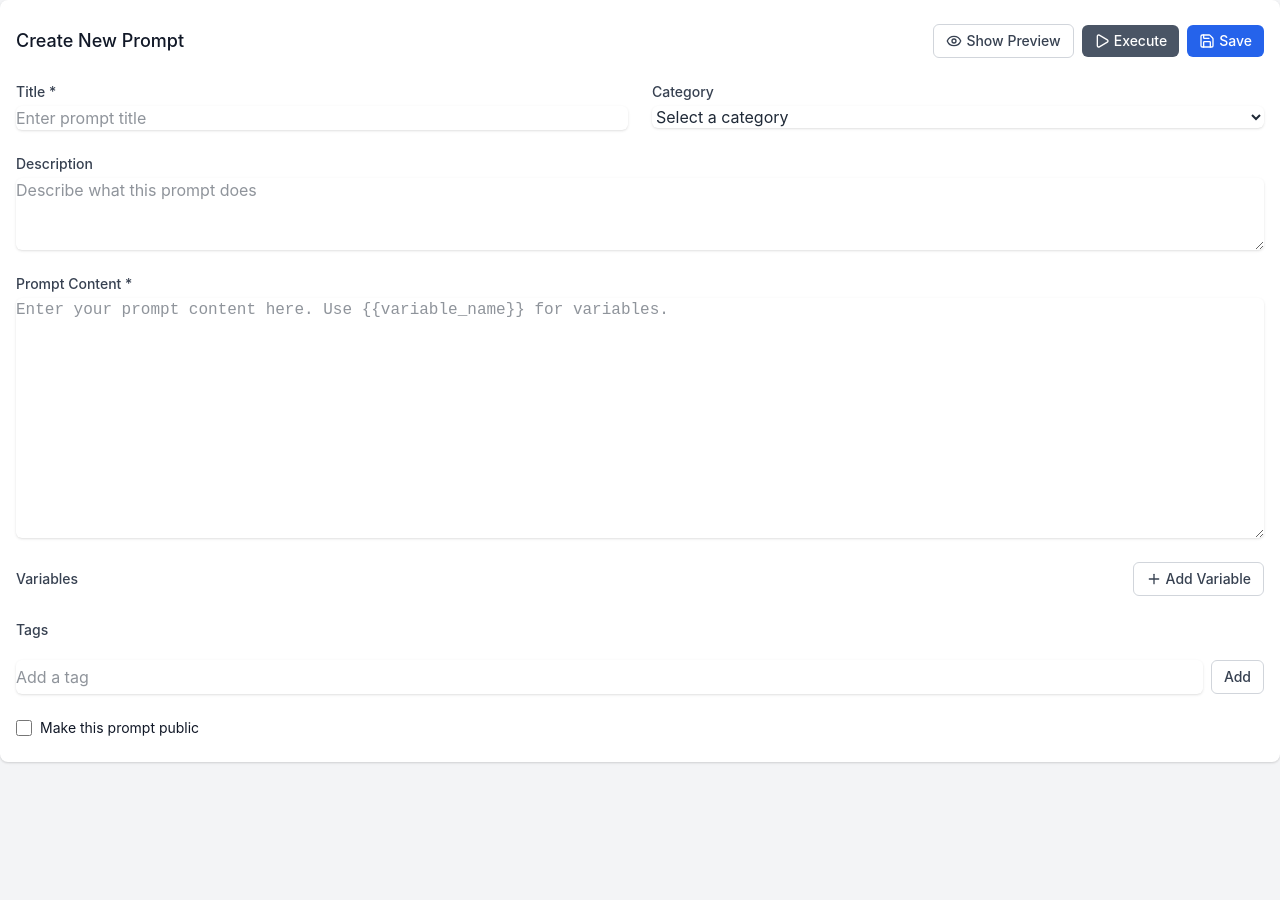
PromptEditor › allows adding and removing tags
The image size is (1280, 900).
Type "new-tag" into the field with placeholder "Add a tag" at [609, 677], box [16, 660, 1203, 694]
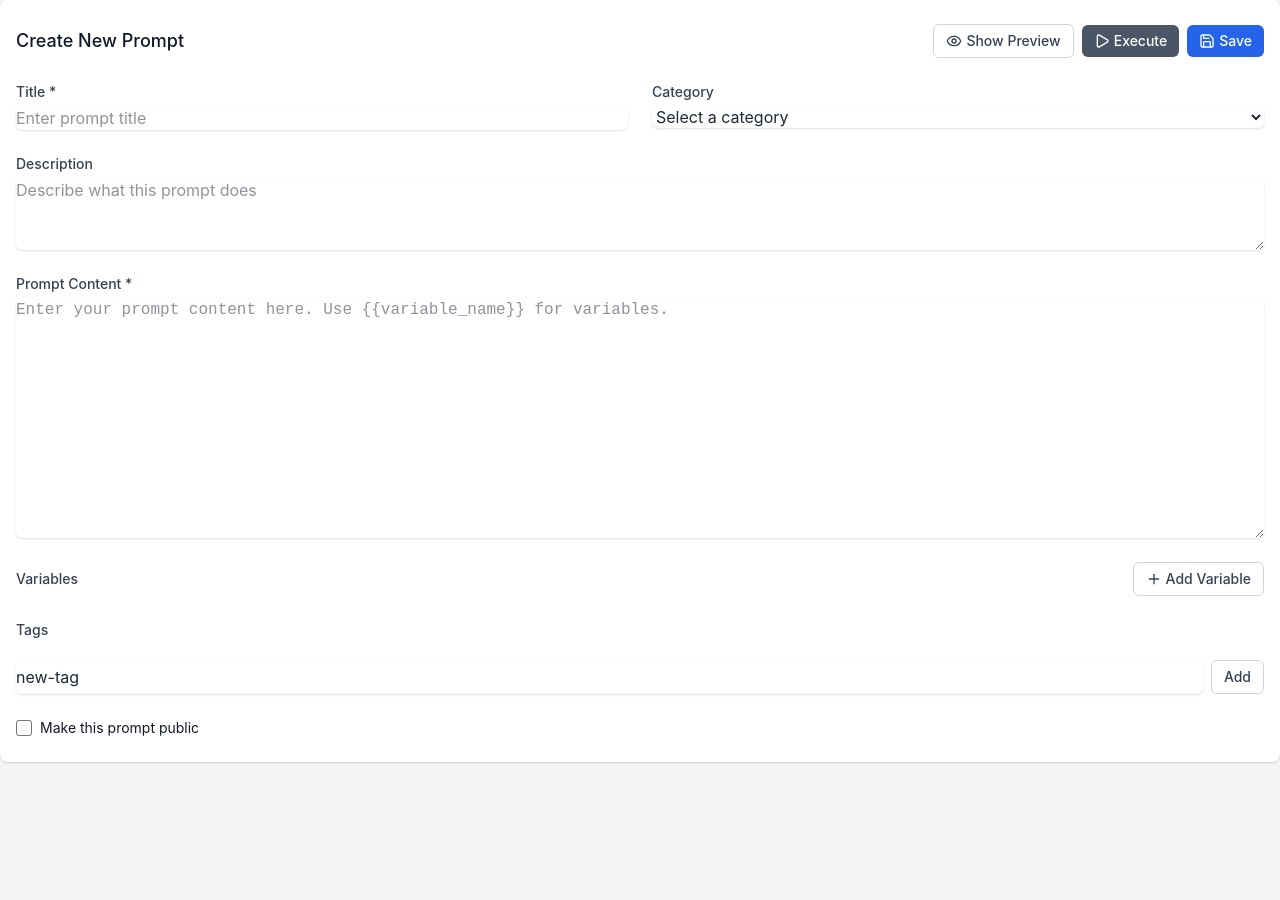
Click the button "Add" at [1237, 677], box [1211, 660, 1264, 694]
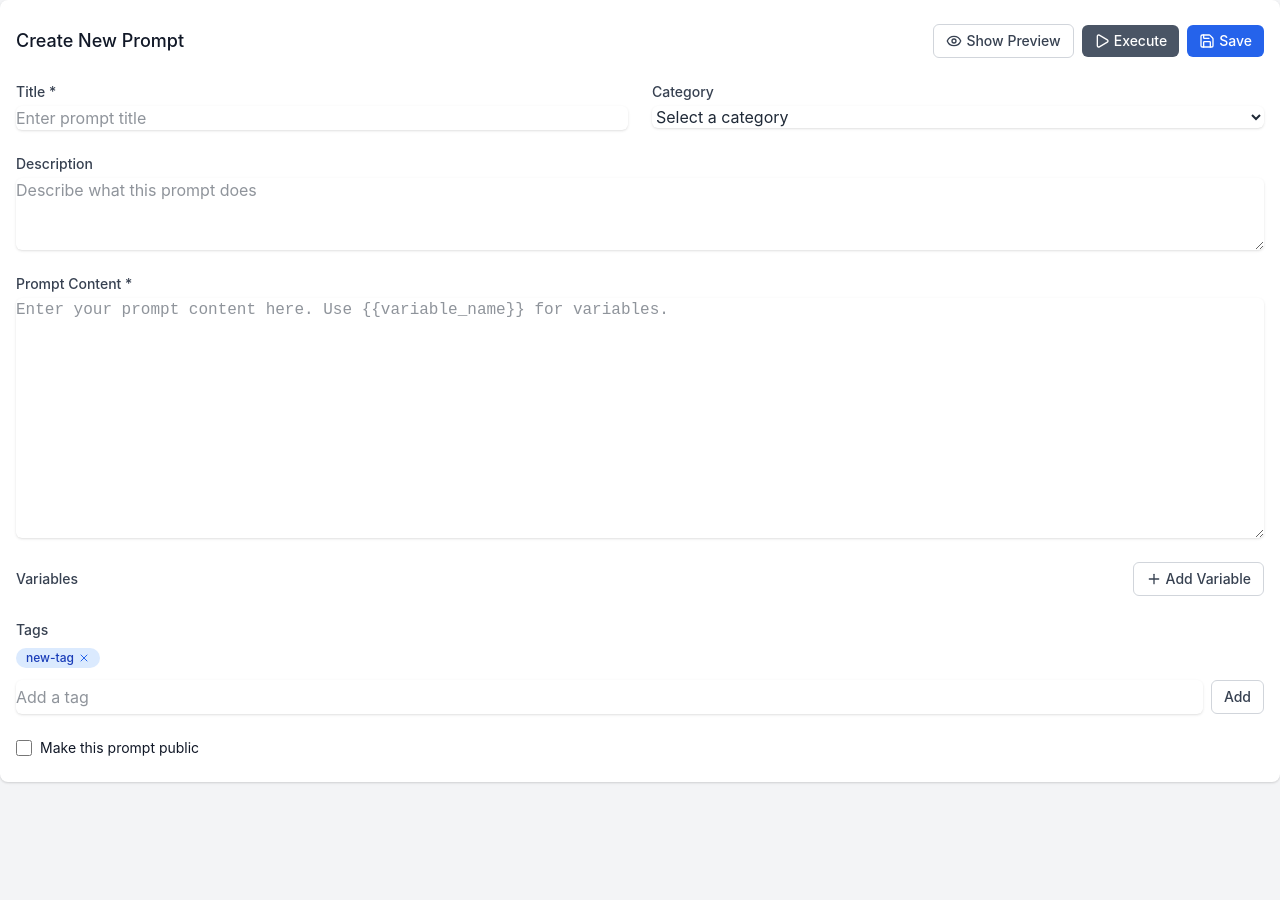
Expected: the text "new-tag" is shown, [16, 648, 100, 668]
# Remove tag
Click the 5th button at [84, 658], box [78, 652, 90, 664]
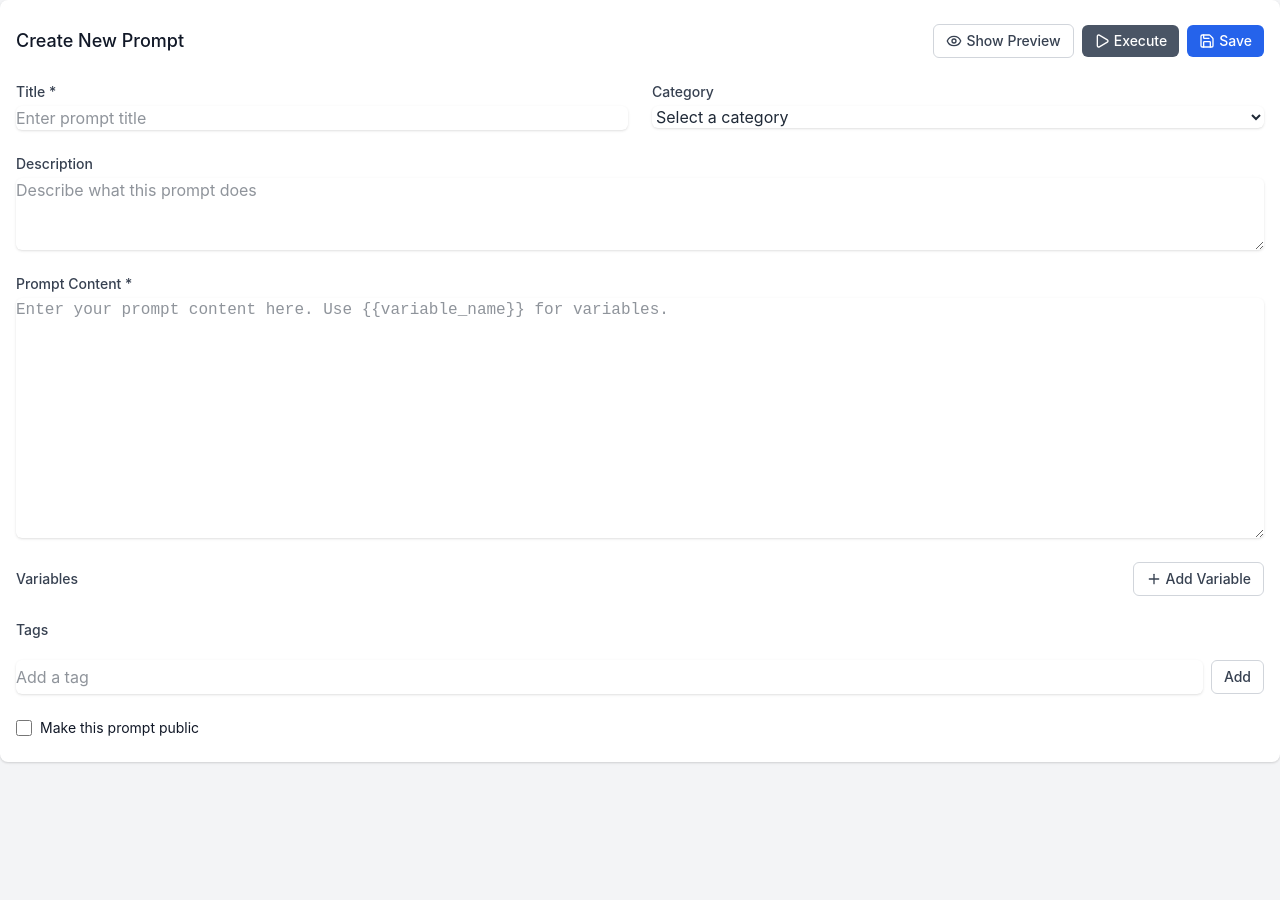
Expected: the text "new-tag" is gone
